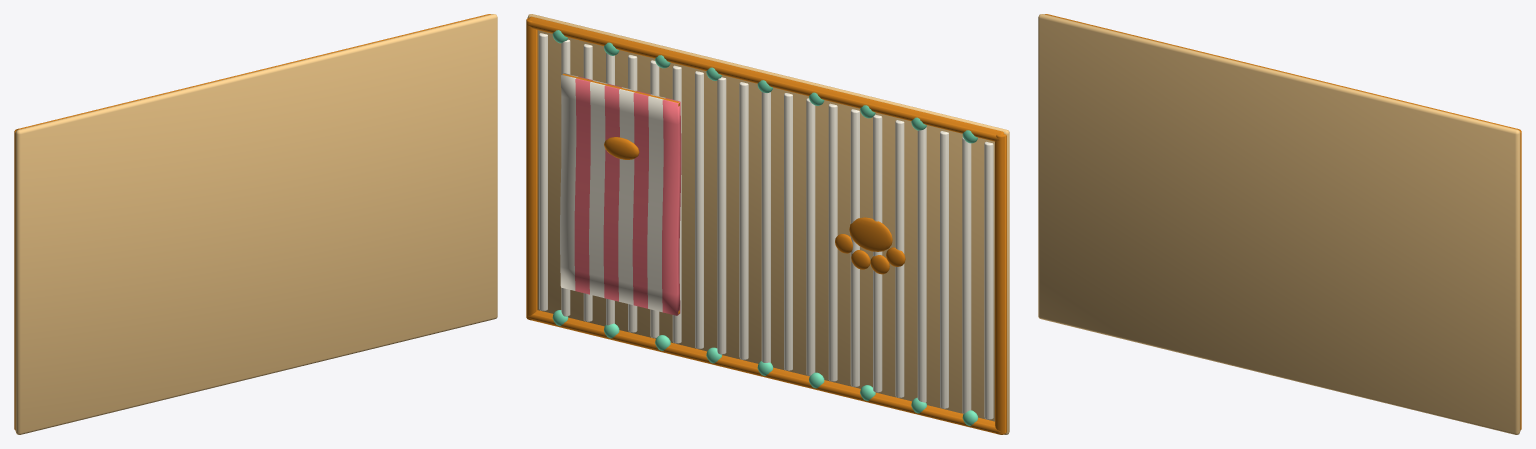
The model's file is BalconySunMat_Premium.fbx.
3 renders of one model, left to right at view 1: azimuth 30°, elevation 25°; view 2: azimuth 150°, elevation 25°; view 3: azimuth 330°, elevation 25°, orthographic.
Parts seen in each view (by area): view 1: BalconySunMat; view 2: BalconySunMat; view 3: BalconySunMat.
Boxes of the visible parts, x1=… form: BalconySunMat: x1=14, y1=14, x2=497, y2=434; BalconySunMat: x1=526, y1=14, x2=1009, y2=434; BalconySunMat: x1=1038, y1=14, x2=1521, y2=434.
Size of the model in its own units: 1.9 by 1.15 by 0.084.
